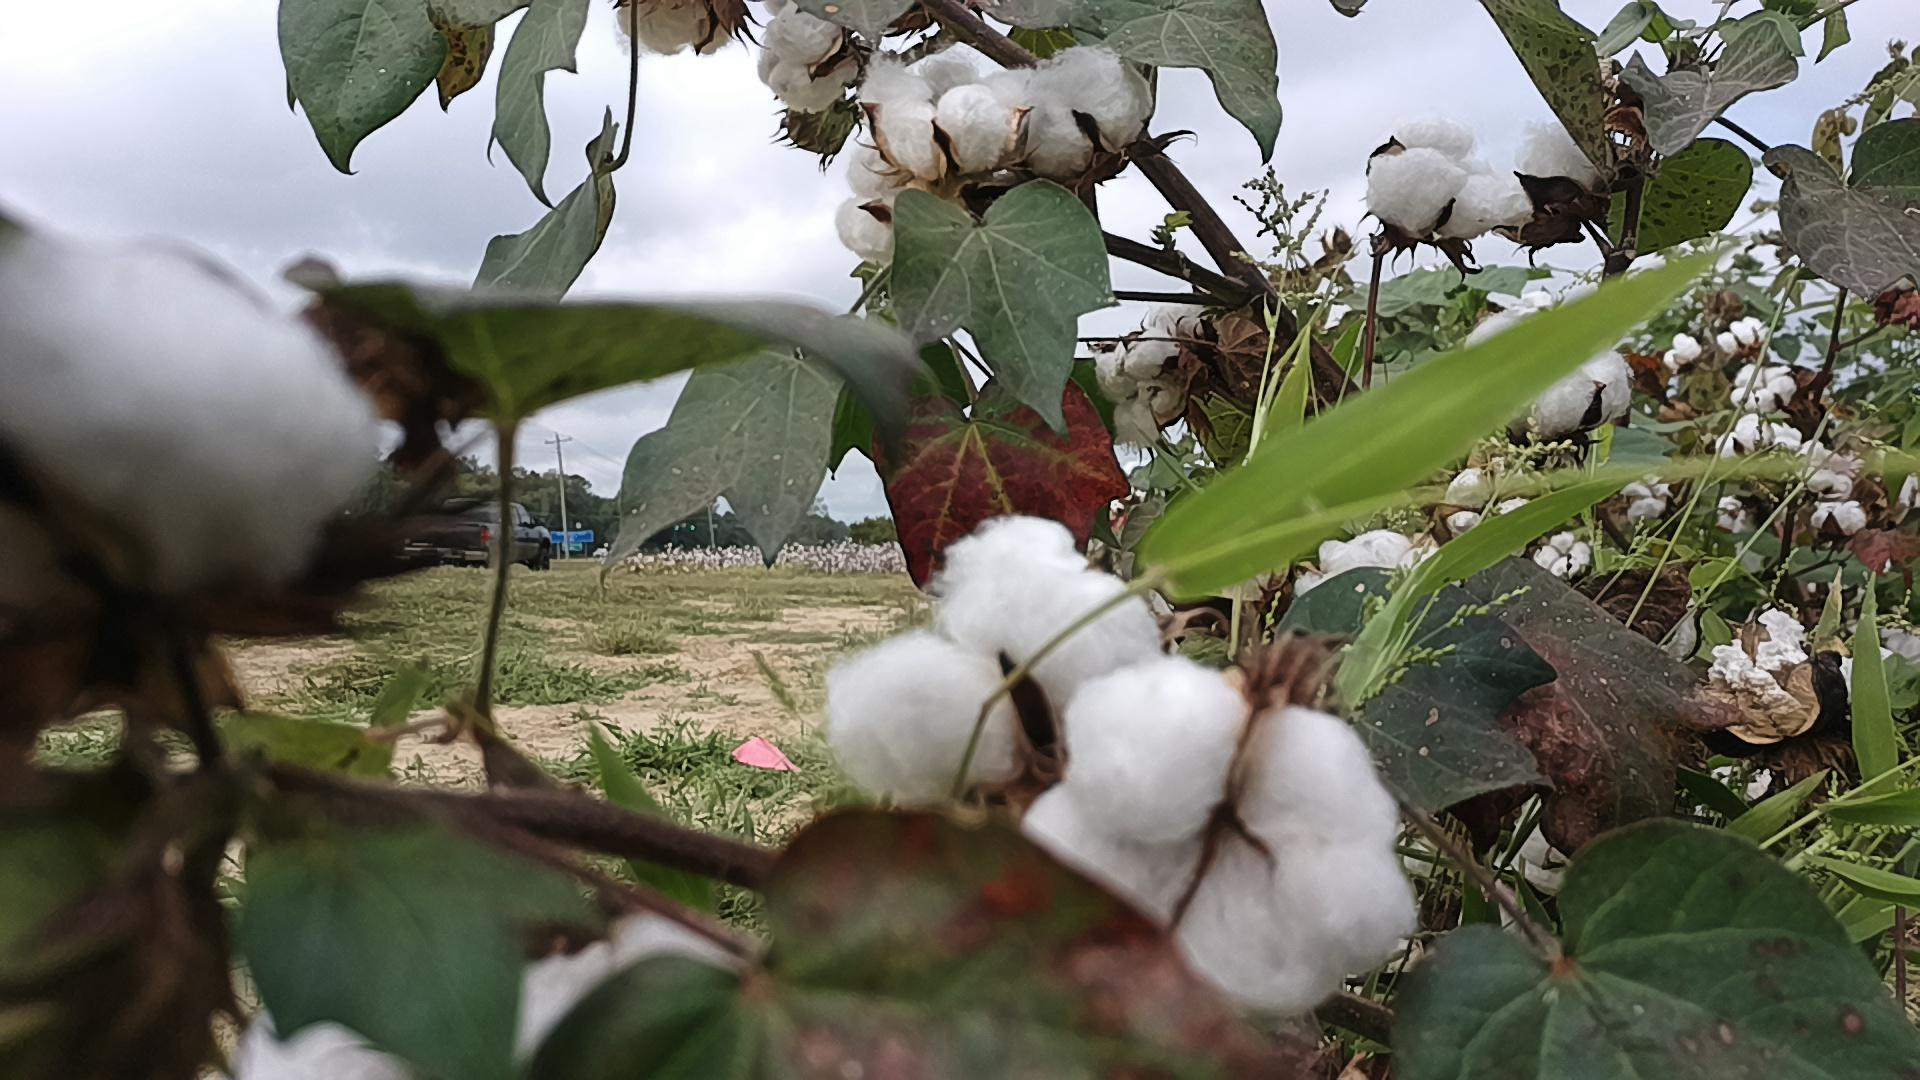cotton_ready: (1027, 661, 1420, 1014), (0, 241, 388, 597), (825, 516, 1168, 803), (240, 913, 736, 1080), (1468, 307, 1640, 433), (1367, 117, 1527, 241), (1006, 46, 1155, 175), (868, 57, 1013, 175), (1494, 803, 1578, 939), (1709, 603, 1816, 705), (758, 8, 858, 116), (1126, 303, 1211, 425), (837, 144, 911, 262), (1300, 527, 1420, 597), (1518, 121, 1607, 195), (1096, 345, 1158, 446), (804, 0, 918, 33)
